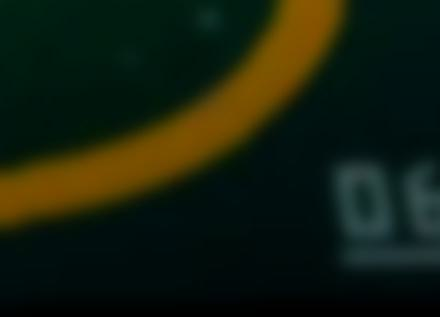Apron: (1, 1, 348, 234)
